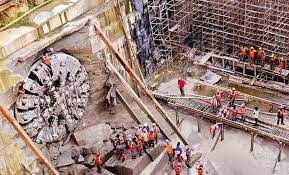vest: (240, 49, 245, 56), (250, 51, 254, 57), (258, 52, 262, 57)
